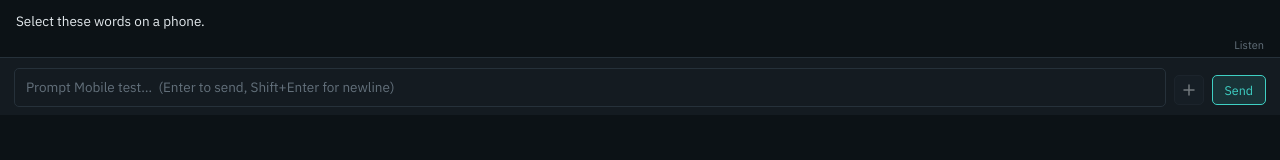
Test case: TranscriptPane composer completions › completes @agent: mentions from listed agents on every host
Type "@agent:sl" into the text box with placeholder "Prompt Mobile test" at (590, 87), box [14, 68, 1166, 107]
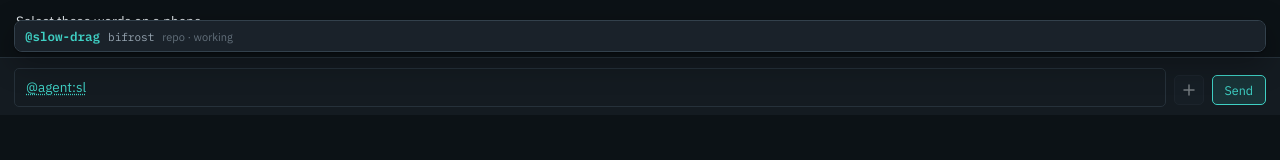
Expected: the text "@slow-drag" is shown, [25, 28, 100, 44]
Press Enter in the text box with placeholder "Prompt Mobile test", box [14, 68, 1166, 107]
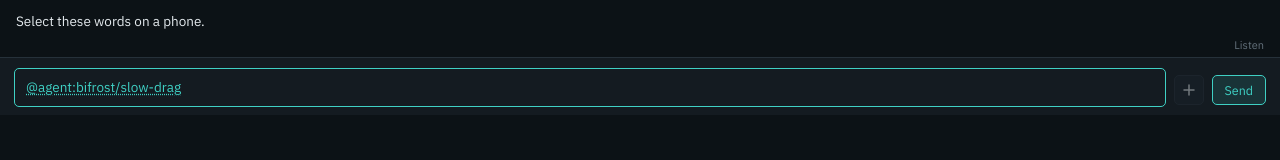
Expected: the text box with placeholder "Prompt Mobile test" holds "@agent:bifrost/slow-drag ", [14, 68, 1166, 107]
